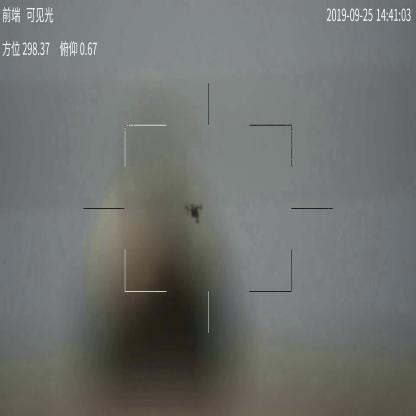uav: (184, 200, 204, 224)
